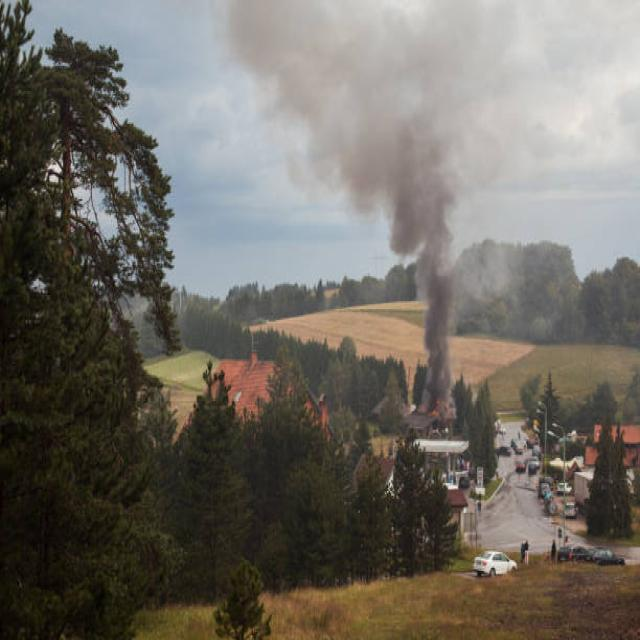Smoke: (289, 2, 511, 220), (390, 204, 472, 411)
